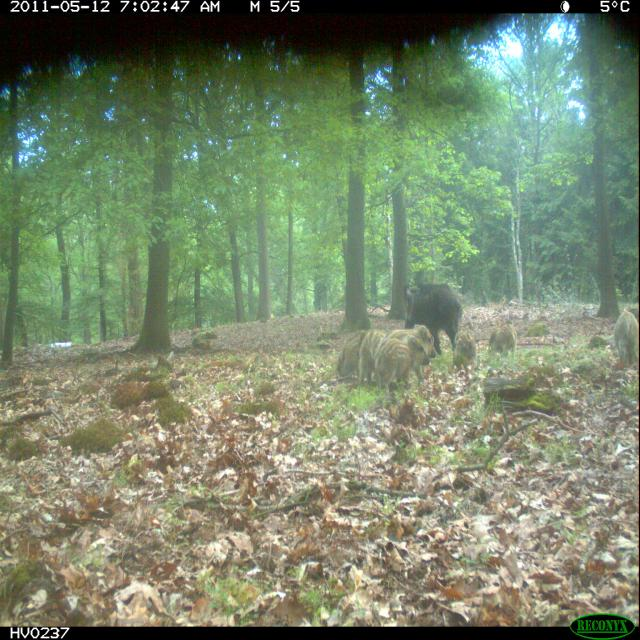boar: (326, 296, 462, 415), (391, 270, 480, 370), (379, 324, 442, 374), (480, 310, 522, 367), (607, 298, 640, 368), (450, 317, 481, 387)
